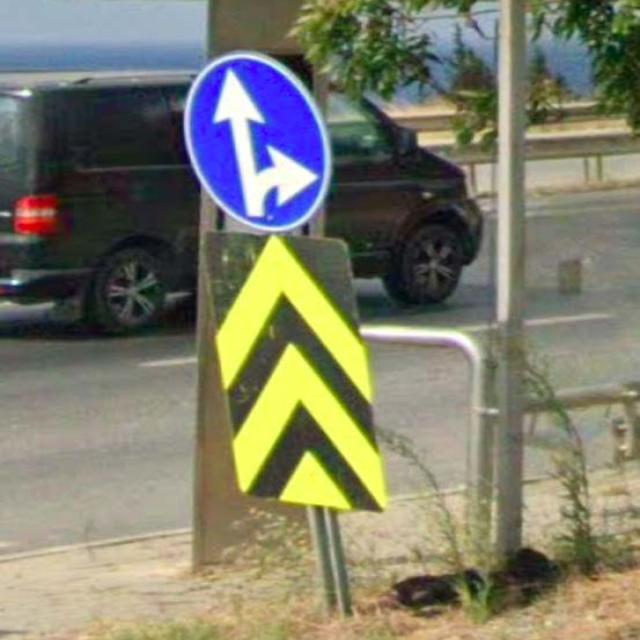ilerisag: (182, 49, 332, 231)
